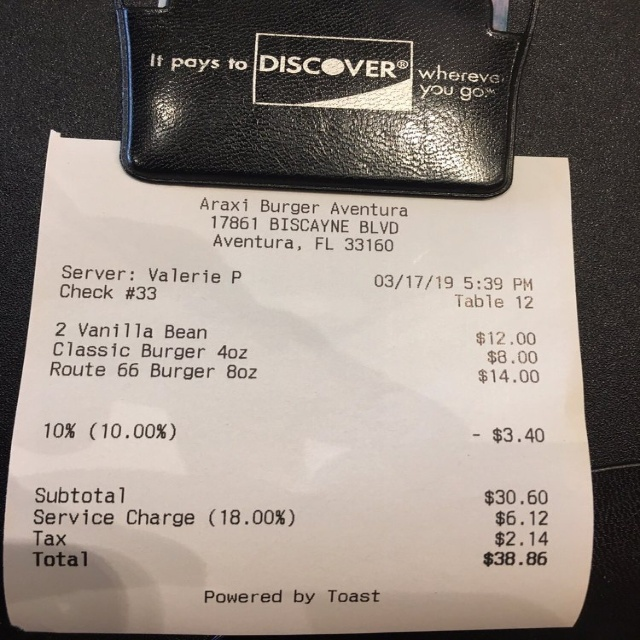invoice_table: (50, 320, 540, 387)
invoice_title: (199, 195, 409, 254)
invoice_total: (34, 550, 548, 571)
